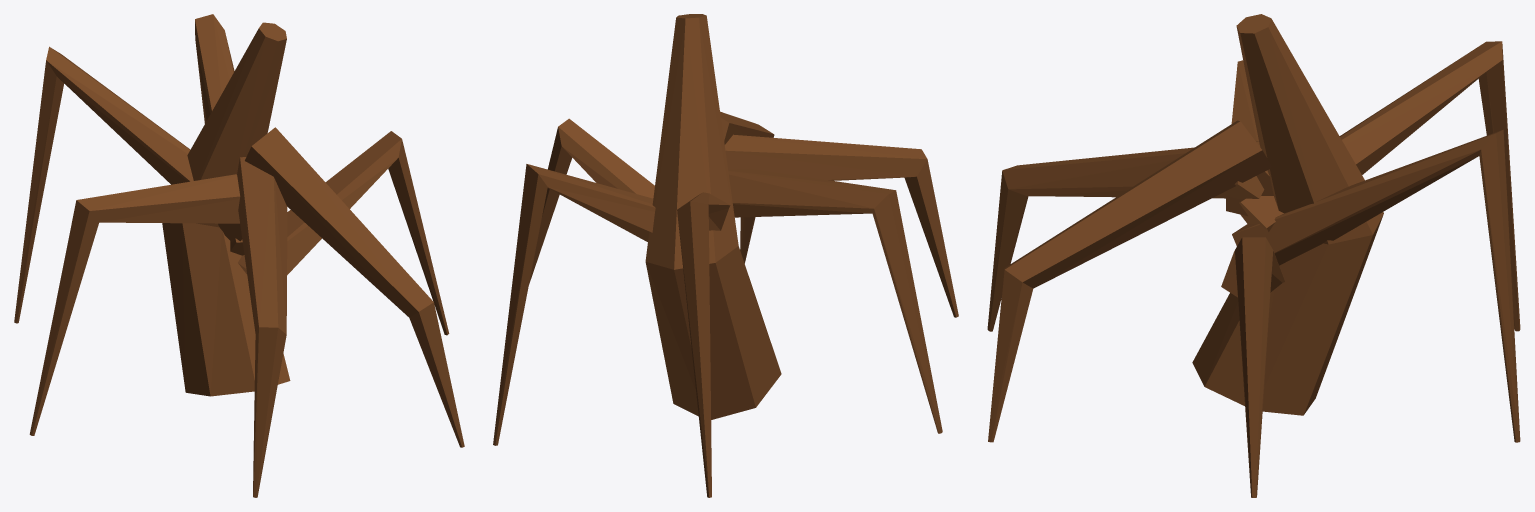
Rendered from mangrove_roots.fbx.
The picture shows the model from 3 angles, left to right: view 1: azimuth 30°, elevation 25°; view 2: azimuth 150°, elevation 25°; view 3: azimuth 270°, elevation 25°; orthographic projection. The views are drawn at different scales.
Visible parts, largest first — view 1: mangrove_roots; view 2: mangrove_roots; view 3: mangrove_roots.
Boxes of the visible parts, bbox=[...] form: mangrove_roots: bbox=[14, 14, 464, 497]; mangrove_roots: bbox=[493, 14, 958, 497]; mangrove_roots: bbox=[987, 14, 1520, 497].
Bounding box in the file's own units: 3 × 2.5 × 3.
